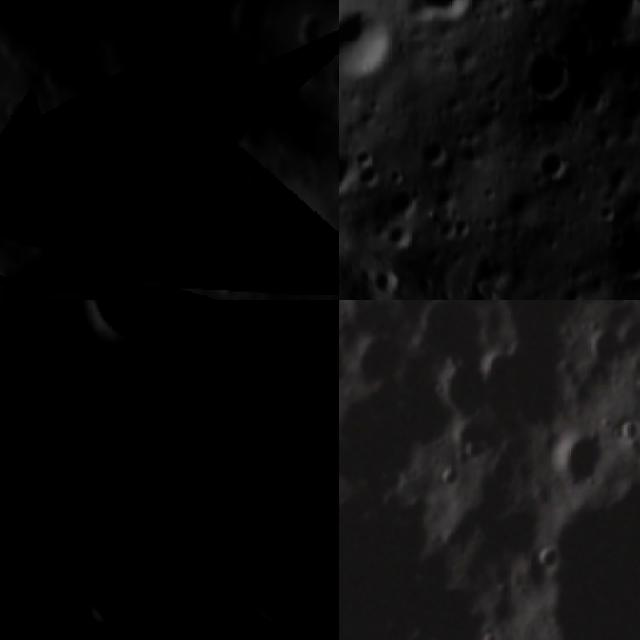crater: (0, 200, 217, 300), (182, 187, 328, 300), (160, 347, 274, 473), (550, 484, 640, 640), (219, 549, 310, 640), (65, 300, 190, 362), (55, 559, 135, 640), (403, 300, 499, 357), (520, 31, 588, 109), (423, 357, 495, 423), (339, 10, 398, 90), (0, 127, 67, 196), (546, 422, 612, 490), (339, 328, 404, 393), (483, 498, 545, 564), (292, 325, 339, 405), (48, 403, 103, 458), (119, 109, 170, 160), (584, 326, 628, 372), (540, 140, 582, 188), (415, 0, 478, 30), (383, 220, 424, 258), (417, 136, 454, 173), (37, 62, 74, 98), (528, 542, 564, 578), (317, 49, 339, 106), (289, 26, 326, 55), (387, 188, 420, 214), (617, 414, 640, 448), (604, 300, 627, 319)
